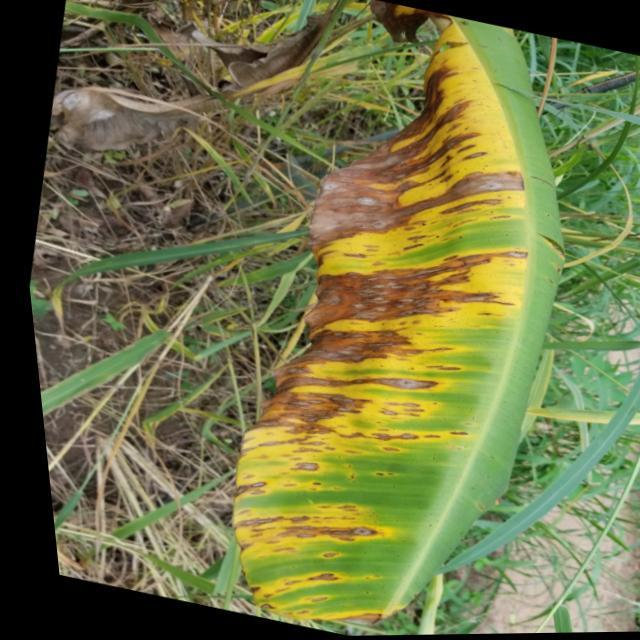Early_rust: (184, 0, 534, 639)
